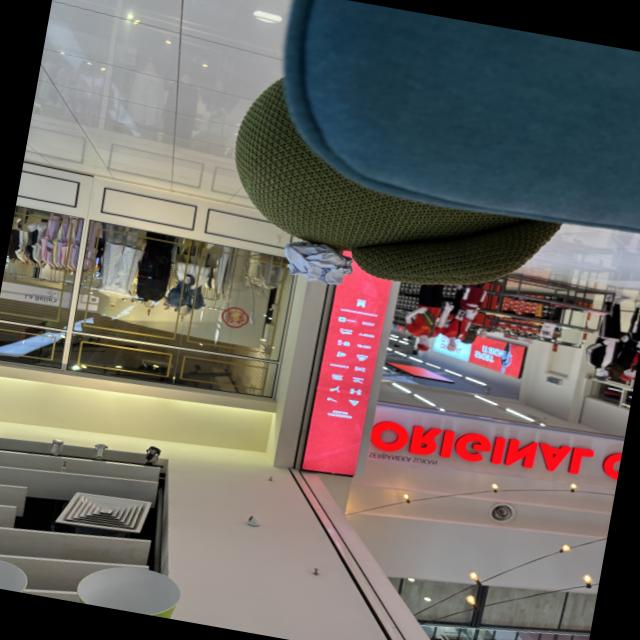crumpled_paper: (276, 234, 358, 290)
